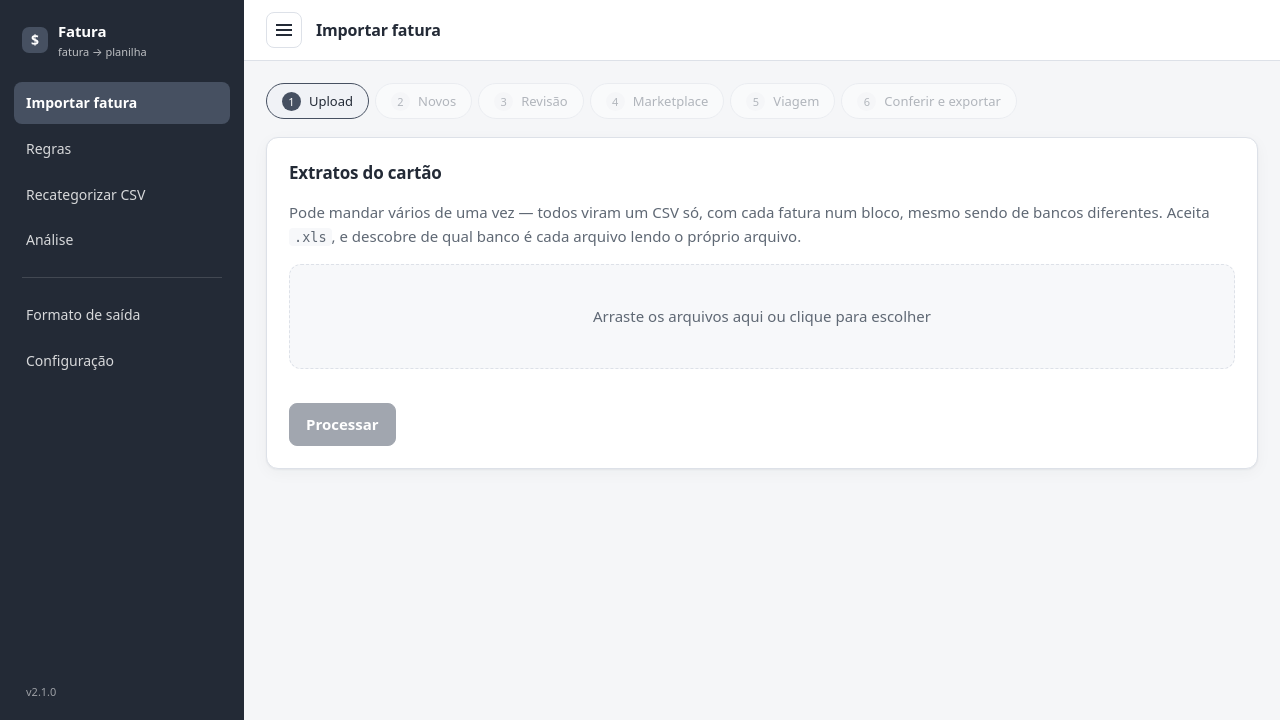
Scenario: App › mostra a etapa de Viagem também na recategorização
Click the button "Recategorizar CSV".
click(122, 195)  # box [14,174,230,215]
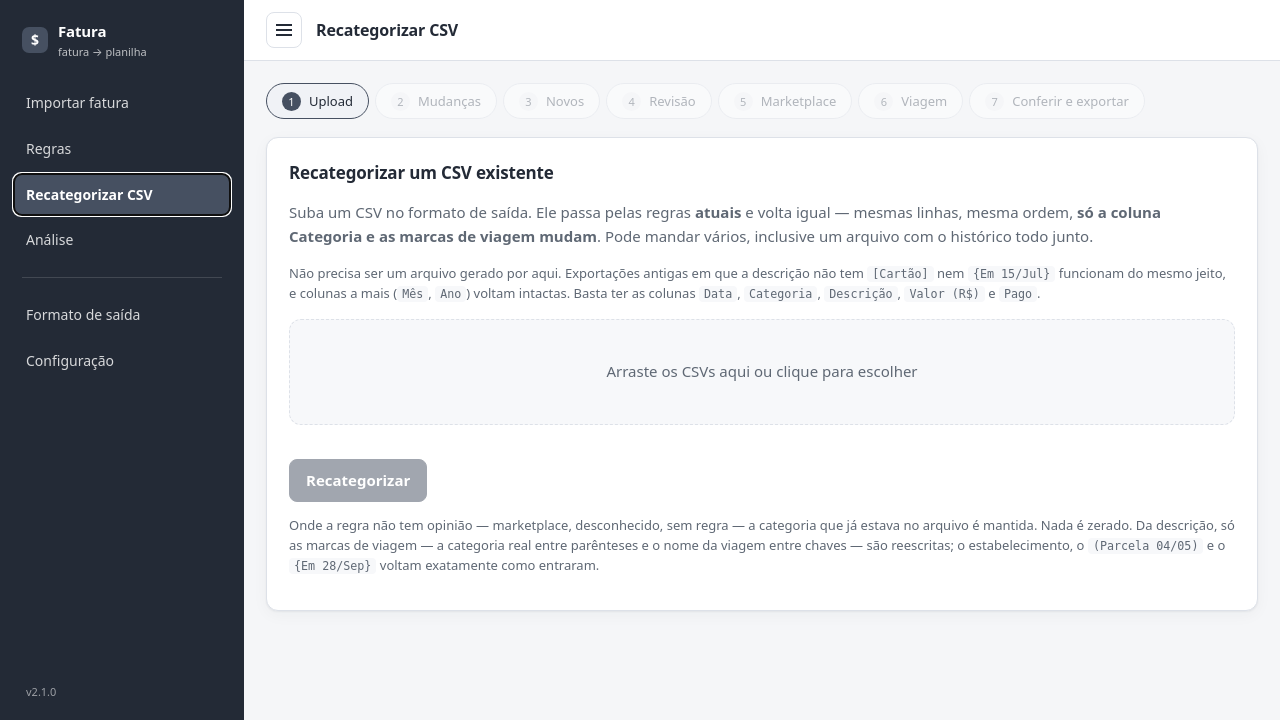
Expected: the button "6 Viagem" is shown, [858,83,963,119]
Result: the button "2 Mudanças" is shown at [375,83,497,119]
